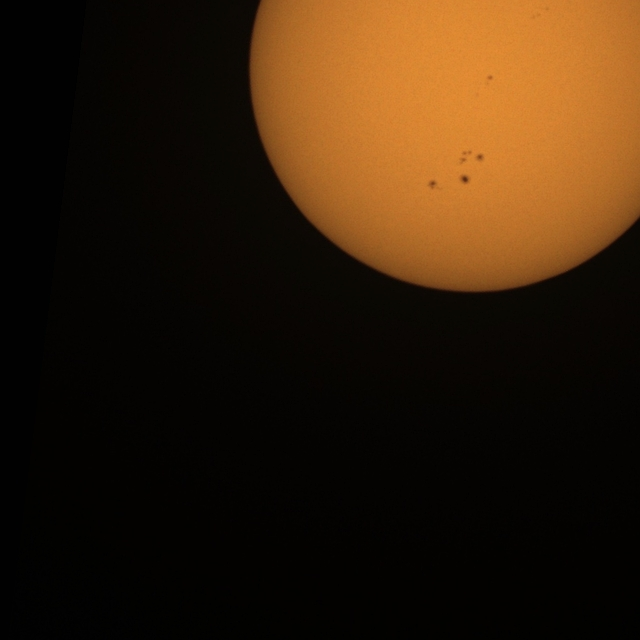sunspot: (459, 149, 484, 166), (531, 5, 551, 19), (427, 179, 440, 191), (459, 174, 470, 185), (485, 74, 493, 86), (531, 11, 540, 20)
